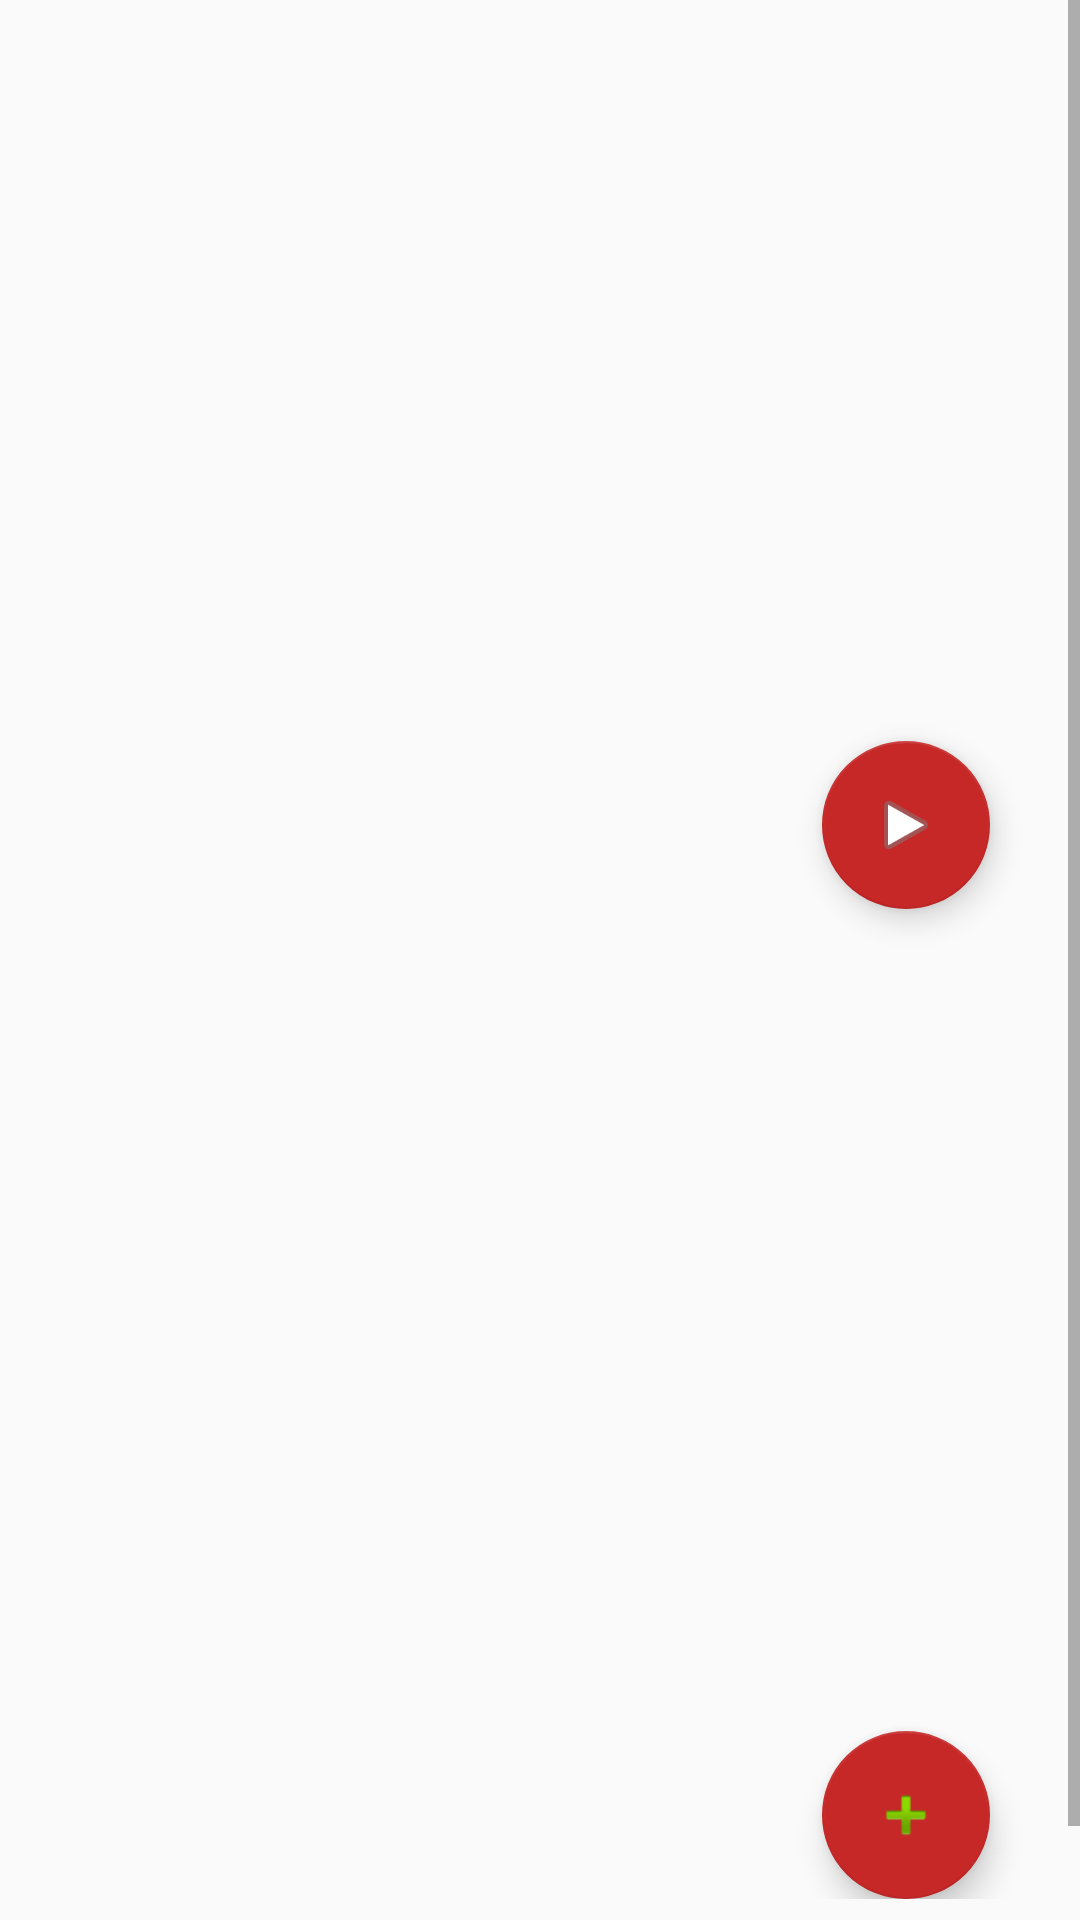

Named icons in this screenshot (1080x1920) and their bounding boxes, (x1, y1, x2, y2):
add: (822, 1731, 990, 1899)
play: (822, 741, 990, 909)
